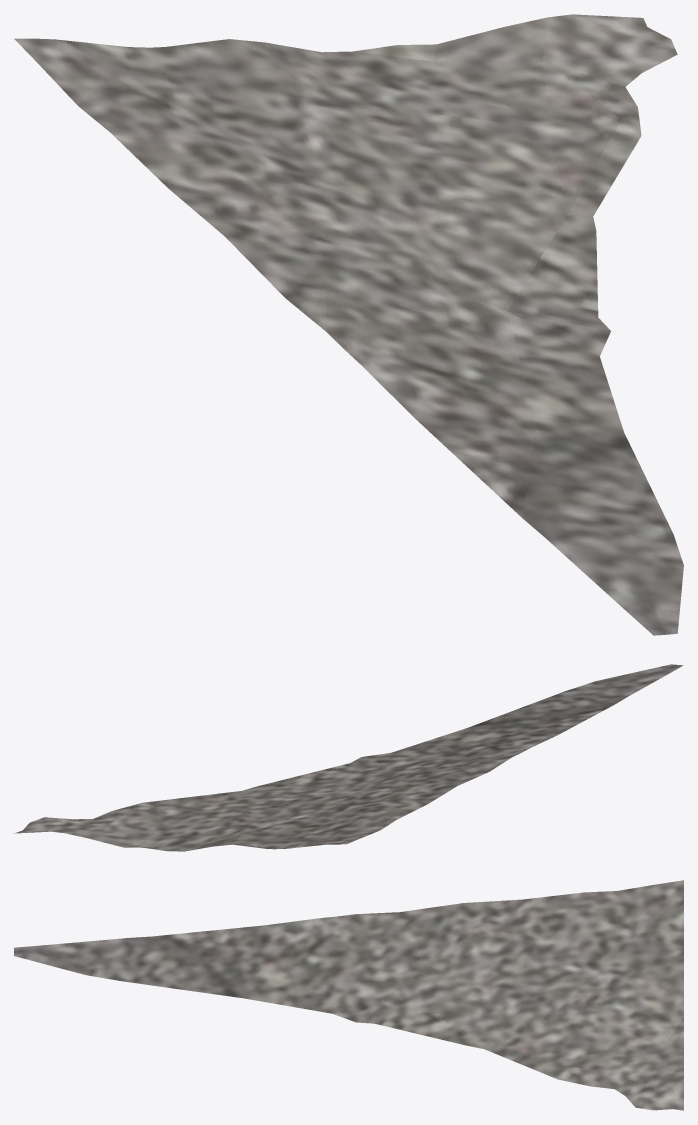
The picture shows the model from 3 angles, top to bottom: view 1: azimuth 30°, elevation 25°; view 2: azimuth 150°, elevation 25°; view 3: azimuth 270°, elevation 25°; orthographic projection. The views are drawn at different scales.
Size of the model in its own units: 0.4758 by 0.096 by 0.8374.
1 material, 1 textured.
